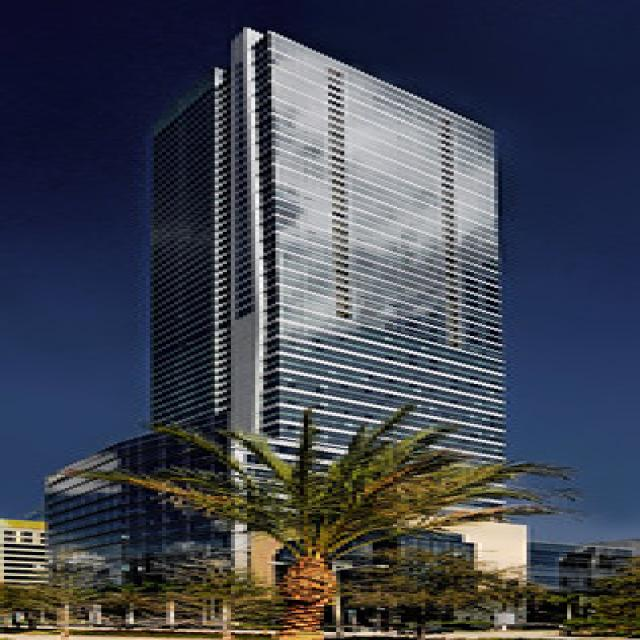Normal_building: (125, 23, 522, 636)
